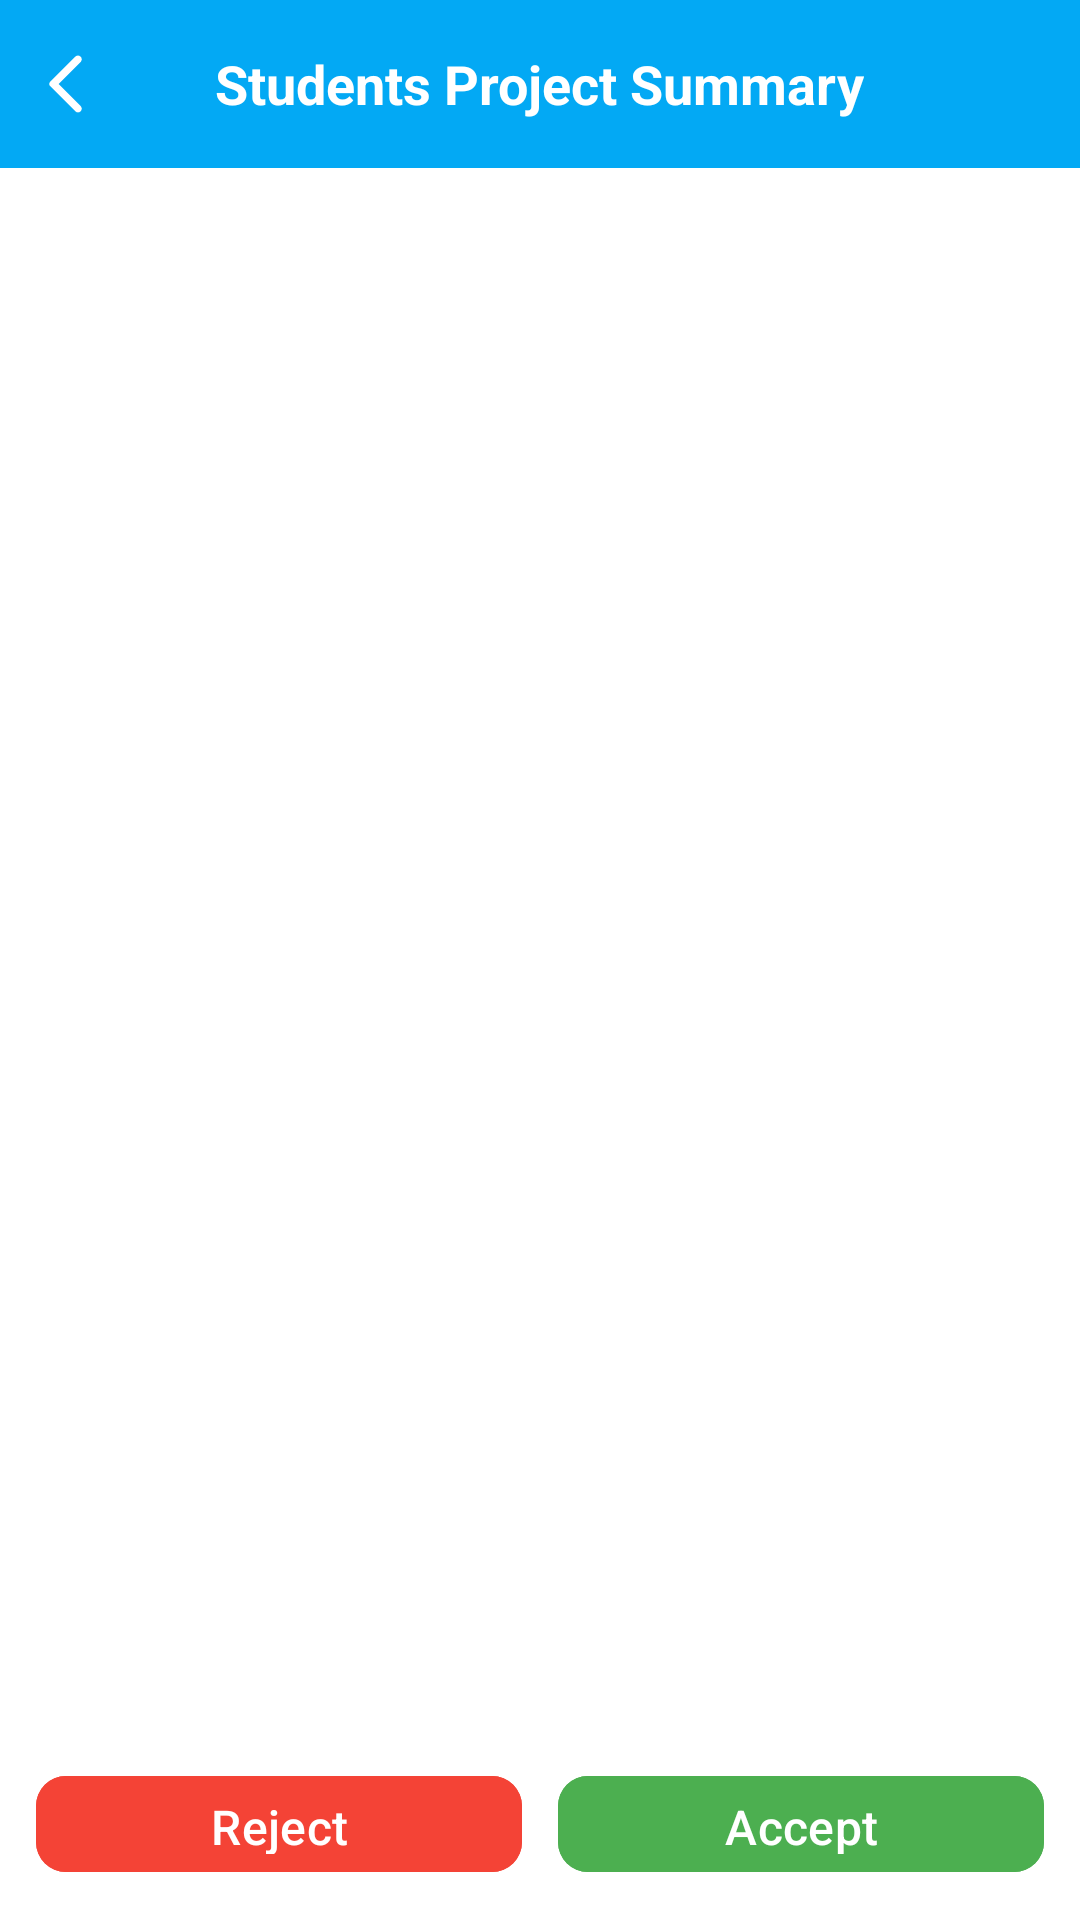

Locate icon controls on the screen. Image size 1080px×1920px, boxes as bbox=(x1, y1, x2, y2).
back: bbox=(49, 55, 82, 113)
